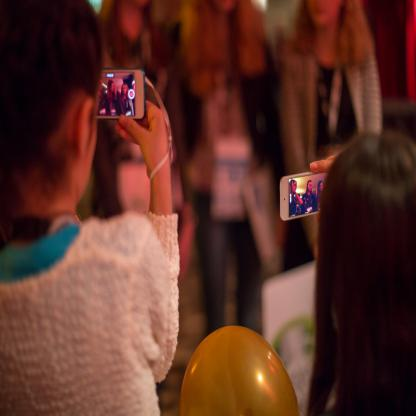Ball: (182, 322, 300, 416)
